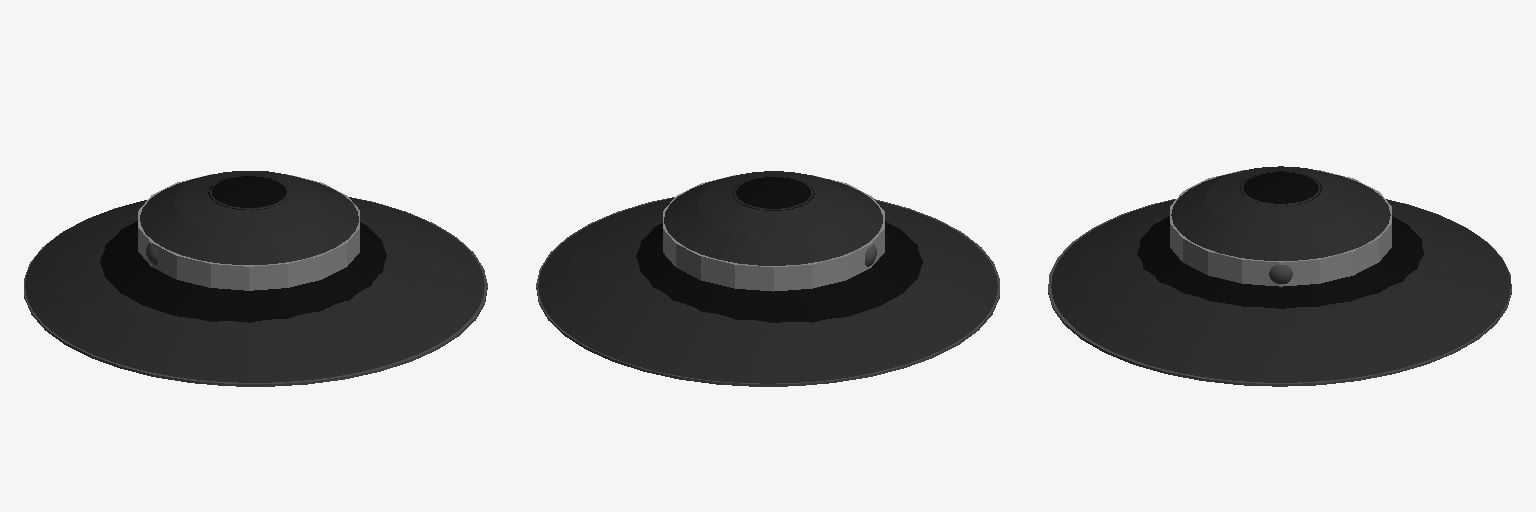
File: enemytankturrent07.obj
The picture shows the model from 3 angles: view 1: azimuth 30°, elevation 25°; view 2: azimuth 150°, elevation 25°; view 3: azimuth 270°, elevation 25°; orthographic projection.
Parts seen in each view (by area): view 1: Sphere008, Sphere001, Cone001, Cylinder001, Cylinder002, Sphere006; view 2: Sphere008, Sphere001, Cone001, Cylinder001, Cylinder002, Sphere006; view 3: Sphere008, Sphere001, Cone001, Cylinder001, Cylinder002, Sphere006.
Part boxes in pixels (bbox=[...]): Sphere008: bbox=[25, 197, 484, 382]; Sphere001: bbox=[140, 171, 358, 264]; Cone001: bbox=[100, 221, 386, 322]; Cylinder001: bbox=[138, 174, 359, 290]; Cylinder002: bbox=[24, 197, 487, 386]; Sphere006: bbox=[208, 176, 289, 209]; Sphere008: bbox=[538, 198, 997, 383]; Sphere001: bbox=[664, 171, 882, 265]; Cone001: bbox=[636, 221, 922, 322]; Cylinder001: bbox=[663, 175, 884, 291]; Cylinder002: bbox=[536, 197, 999, 386]; Sphere006: bbox=[733, 176, 814, 210]; Sphere008: bbox=[1051, 199, 1510, 382]; Sphere001: bbox=[1171, 166, 1390, 260]; Cone001: bbox=[1137, 216, 1424, 308]; Cylinder001: bbox=[1170, 170, 1391, 286]; Cylinder002: bbox=[1048, 199, 1511, 386]; Sphere006: bbox=[1240, 171, 1321, 205].
Size of the model in its own units: 140 by 46.66 by 140.